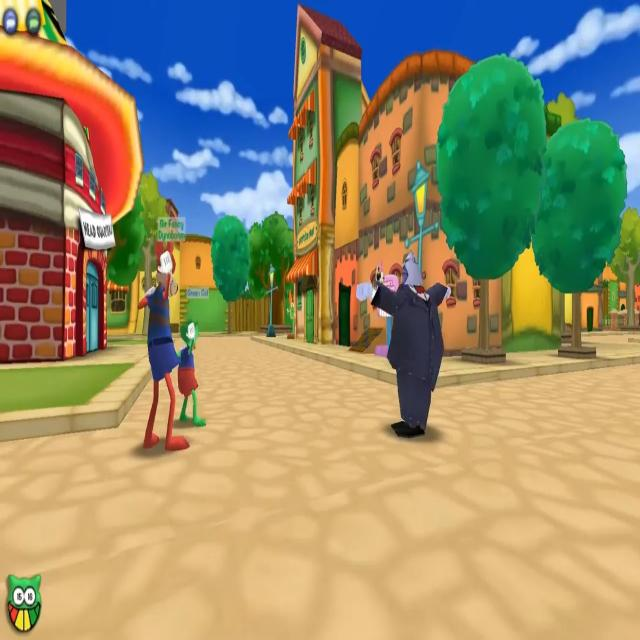bottomfeeder: (354, 239, 459, 435)
